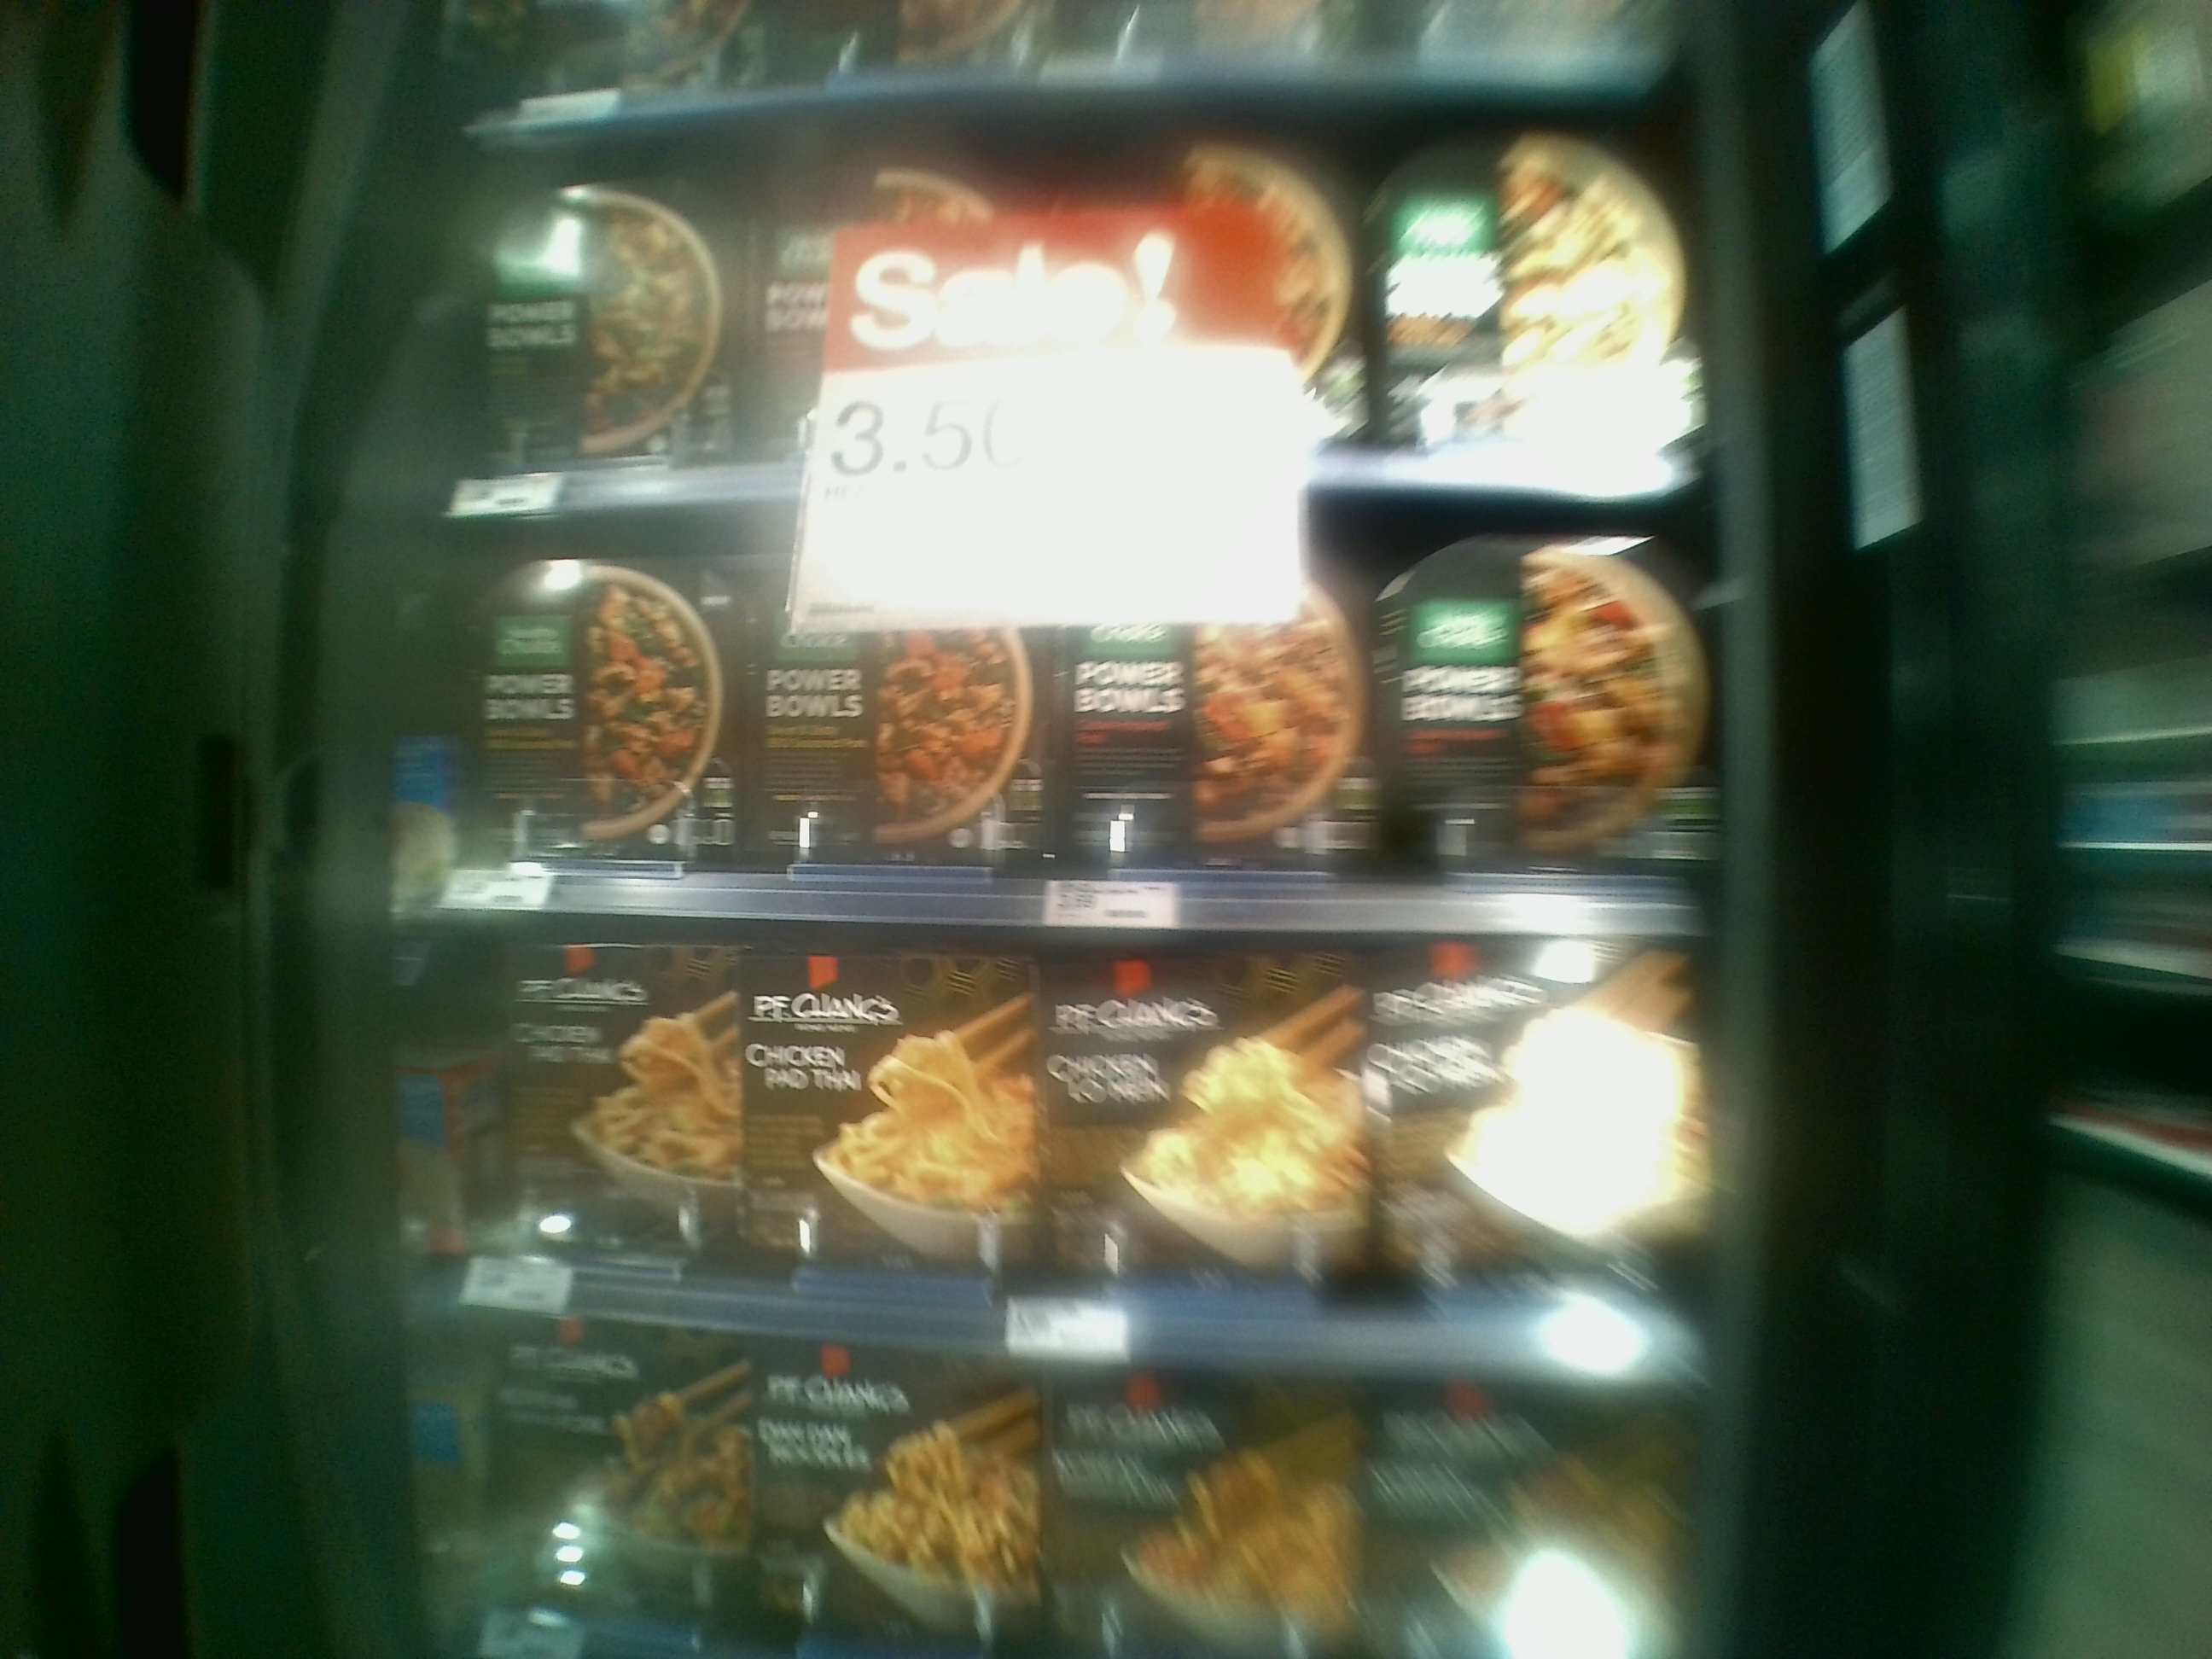shelf: (439, 904, 1761, 1396), (413, 500, 1710, 939)
